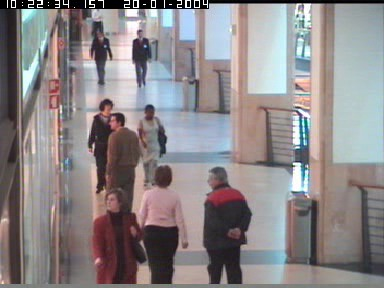person: (138, 164, 188, 283), (202, 167, 252, 285), (92, 190, 147, 284), (105, 112, 140, 210), (87, 98, 116, 194), (136, 104, 166, 186), (89, 29, 113, 85), (132, 29, 151, 87), (90, 9, 103, 37)
